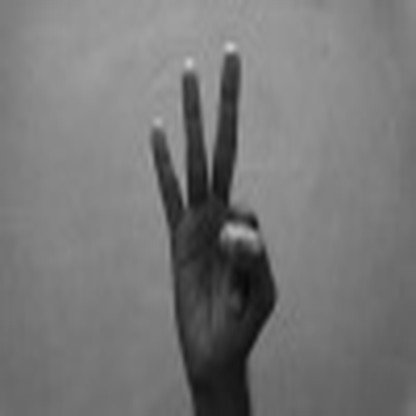f: (124, 35, 289, 377)
